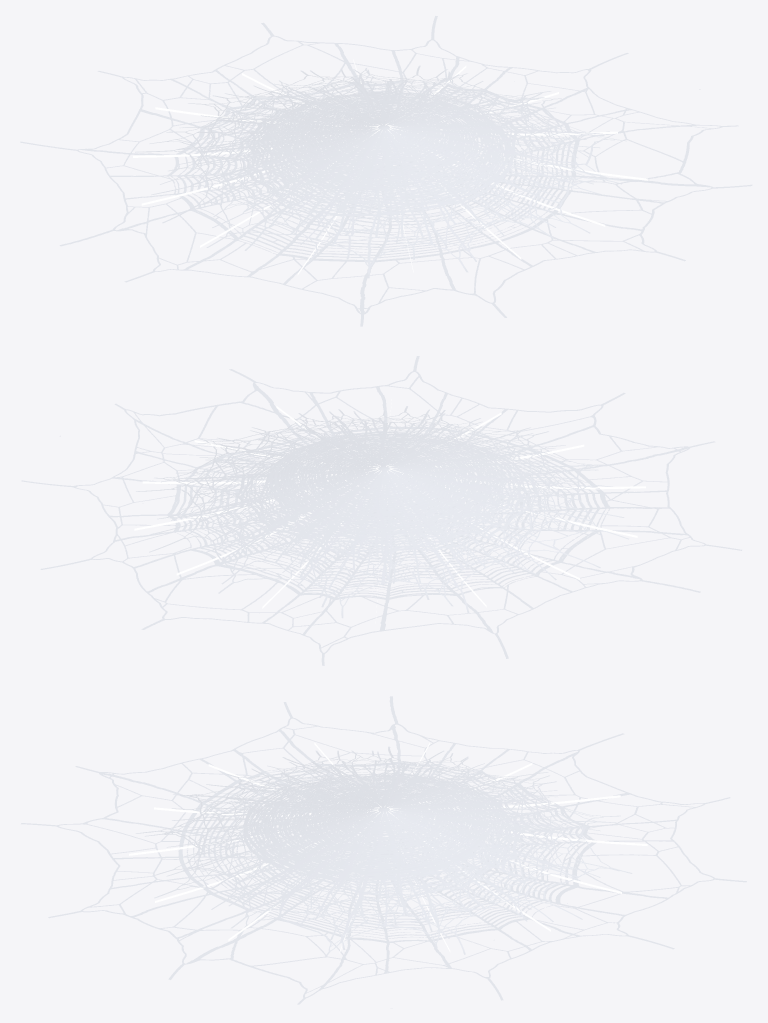
The model's file is spider_nest_3.glb.
3 views of the same model, one above another, from view 1: azimuth 30°, elevation 25°; view 2: azimuth 150°, elevation 25°; view 3: azimuth 270°, elevation 25° (orthographic).
Parts seen in each view (by area): view 1: Web_Skirt, Web_Layer_5, Web_Layer_4, Web_Layer_3, Web_Layer_2, Web_Layer_1, Web_Layer_0; view 2: Web_Skirt, Web_Layer_5, Web_Layer_4, Web_Layer_3, Web_Layer_2, Web_Layer_1, Web_Layer_0; view 3: Web_Skirt, Web_Layer_5, Web_Layer_4, Web_Layer_3, Web_Layer_2, Web_Layer_1, Web_Layer_0.
Boxes of the visible parts, bbox=[...] form: Web_Skirt: bbox=[20, 16, 752, 326]; Web_Layer_5: bbox=[189, 69, 577, 233]; Web_Layer_4: bbox=[179, 69, 586, 242]; Web_Layer_3: bbox=[168, 68, 599, 247]; Web_Layer_2: bbox=[160, 68, 603, 259]; Web_Layer_1: bbox=[149, 69, 621, 264]; Web_Layer_0: bbox=[135, 65, 635, 278]; Web_Skirt: bbox=[21, 356, 741, 665]; Web_Layer_5: bbox=[189, 411, 578, 574]; Web_Layer_4: bbox=[180, 409, 589, 583]; Web_Layer_3: bbox=[171, 411, 599, 591]; Web_Layer_2: bbox=[157, 409, 601, 599]; Web_Layer_1: bbox=[142, 410, 624, 607]; Web_Layer_0: bbox=[136, 406, 628, 618]; Web_Skirt: bbox=[21, 696, 746, 1008]; Web_Layer_5: bbox=[189, 751, 577, 915]; Web_Layer_4: bbox=[183, 750, 590, 924]; Web_Layer_3: bbox=[166, 750, 600, 931]; Web_Layer_2: bbox=[166, 750, 606, 939]; Web_Layer_1: bbox=[144, 750, 619, 949]; Web_Layer_0: bbox=[135, 746, 632, 960].
Bounding box in the file's own units: 7.6 × 0.5025 × 7.6.
2 materials, 1 textured.
